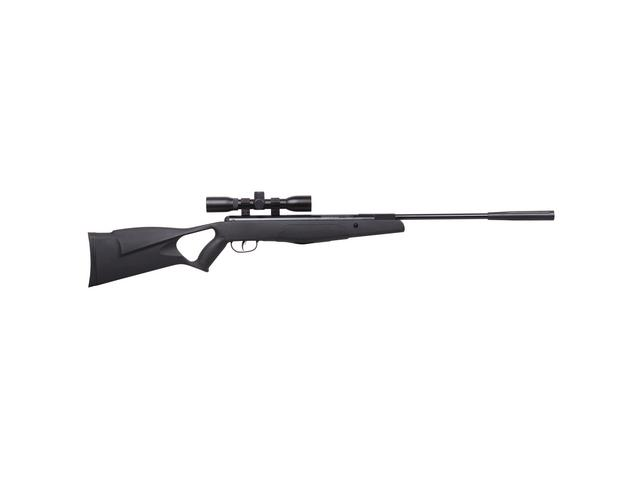rifle: (84, 193, 557, 292)
